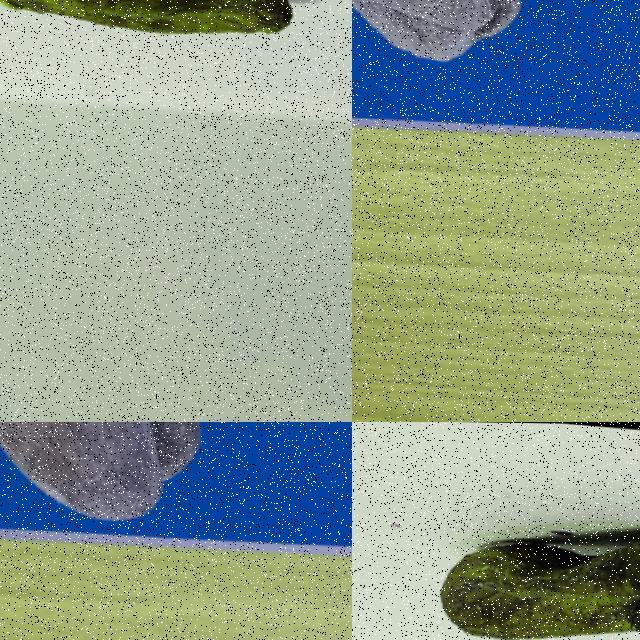Agglomerated_cocoabeans: (0, 422, 273, 547), (352, 0, 607, 126)
Flat_cocoabeans: (355, 458, 639, 639), (0, 0, 351, 89)
